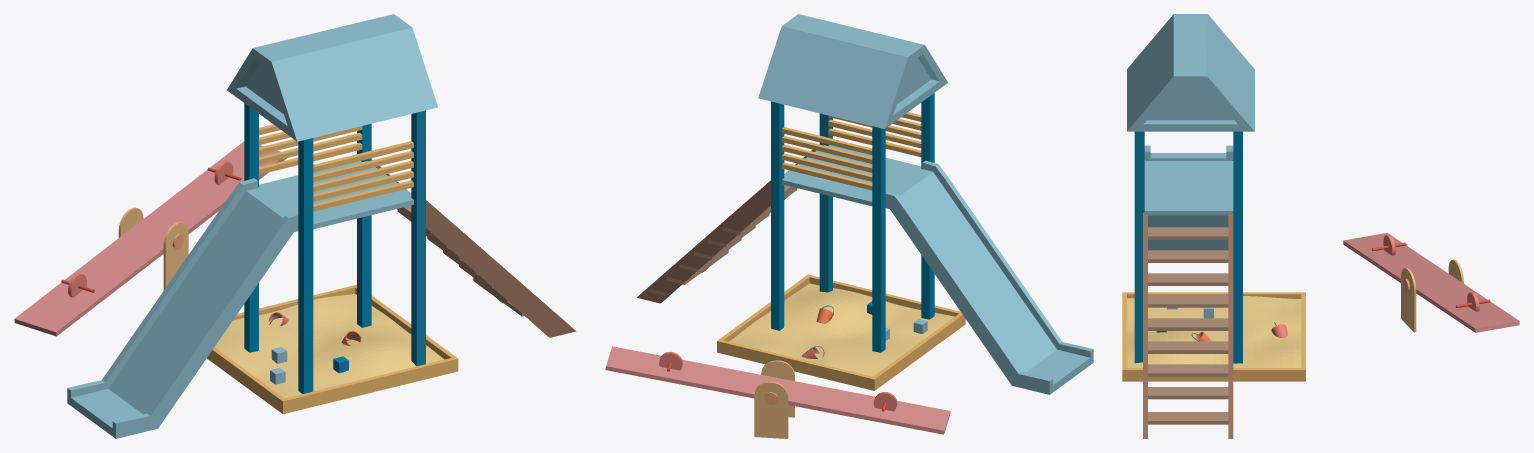
File: Play.fbx
3 renders of one model, left to right at view 1: azimuth 30°, elevation 25°; view 2: azimuth 150°, elevation 25°; view 3: azimuth 270°, elevation 25°, orthographic. The views are drawn at different scales.
Visible parts, largest first — view 1: Playground; view 2: Playground; view 3: Playground.
Boxes of the visible parts, x1,y1,x2,y2 form: Playground: (14,14,576,438); Playground: (605,14,1093,438); Playground: (1122,14,1519,438).
Bounding box in the file's own units: 353 × 241 × 291.
